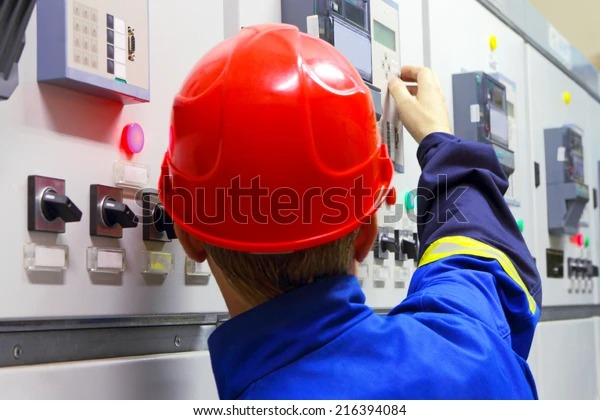helmet: (162, 23, 397, 241)
